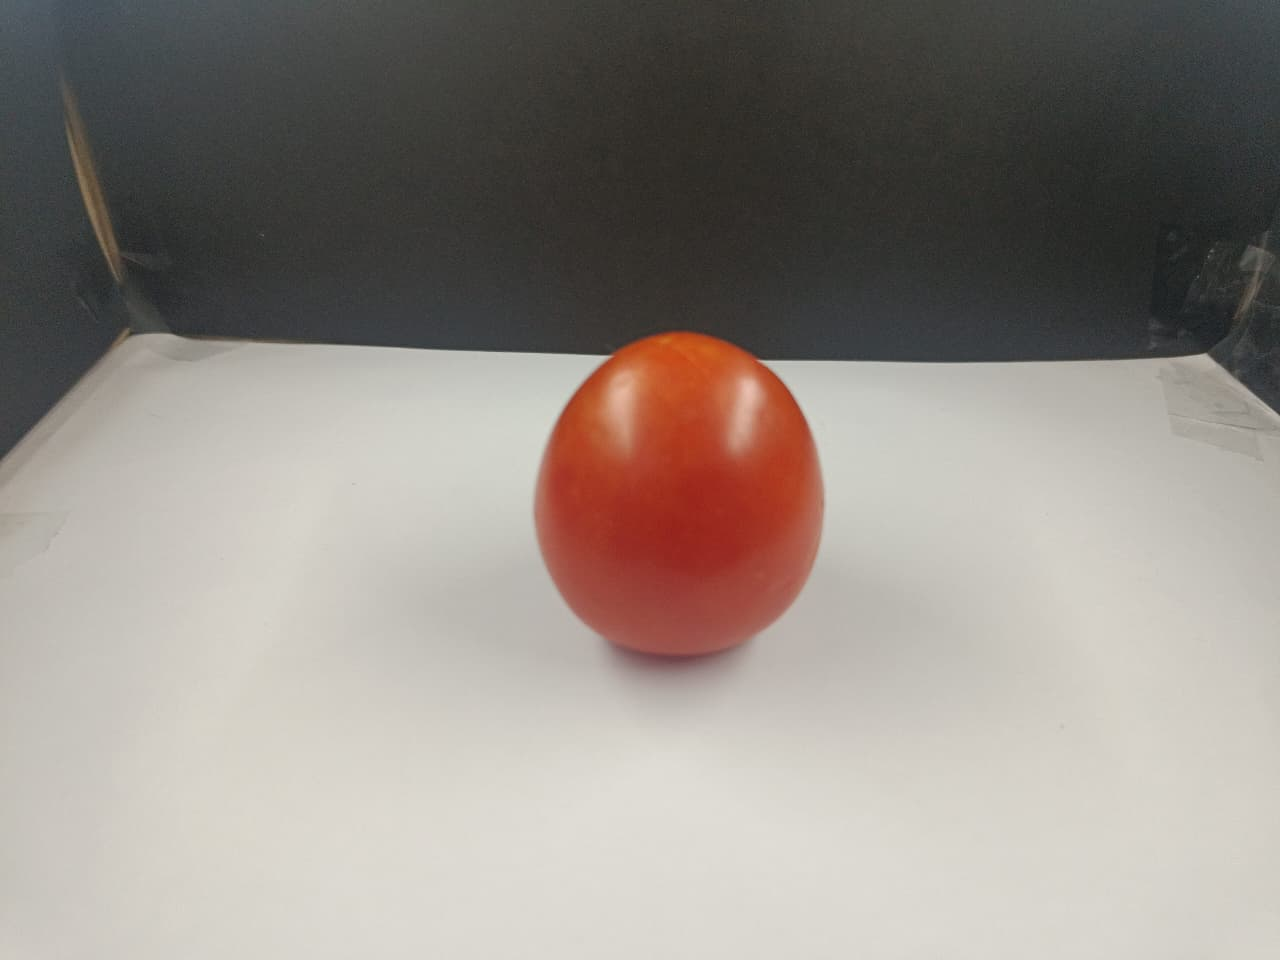ripe: (538, 333, 813, 640)
